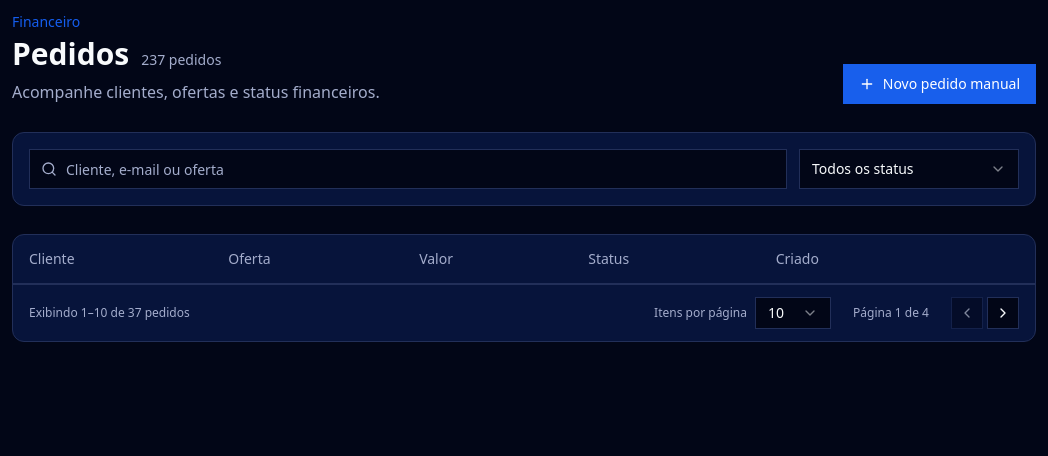
Test: BillingList de pedidos › exibe o total e pagina os pedidos com tamanho configurável
Later steps or results of the test are not shown.
Expected: the text "237 pedidos" is shown, [141,50,221,70]
Expected: the text "Exibindo 1–10 de 37 pedidos" is shown, [29,304,190,320]
Click the button named "Próxima página". click: (1003, 312)
box: [987,296,1019,328]
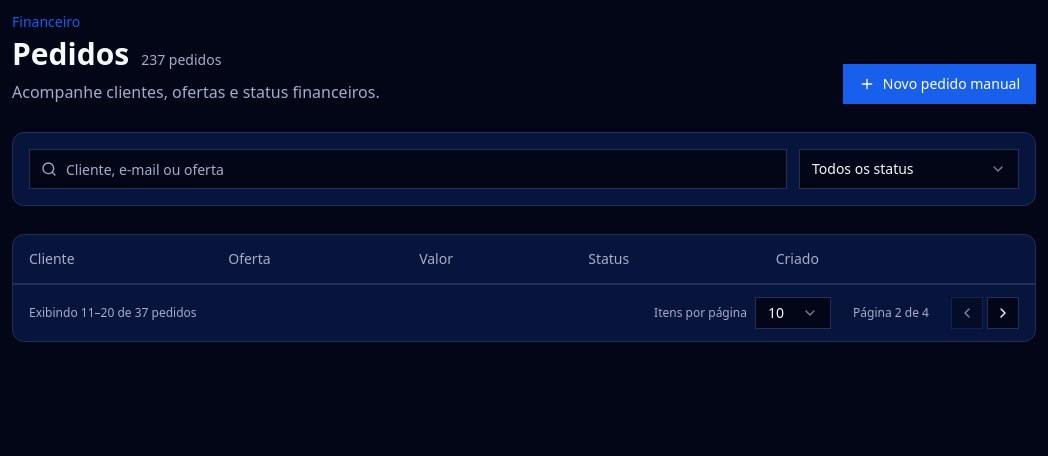
Click the dropdown named "Itens por página". click: (793, 312)
box: [755,296,831,328]
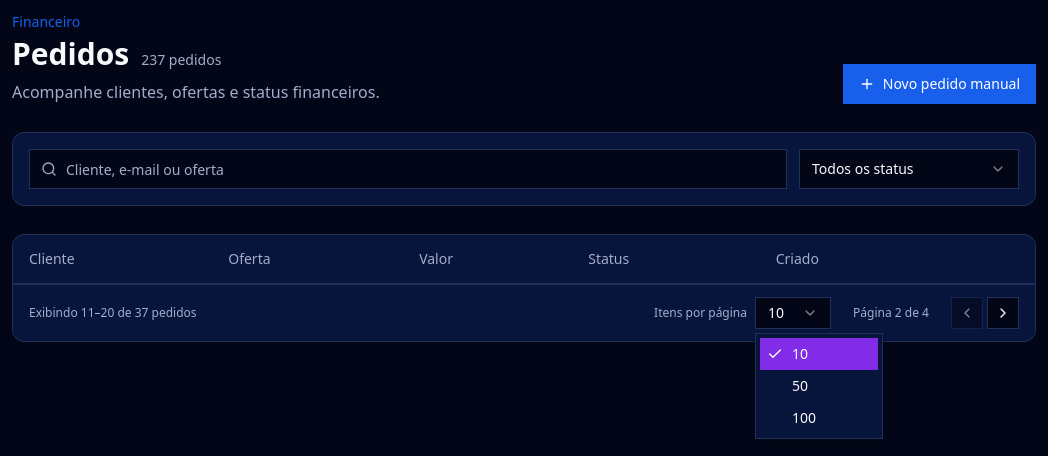
Result: the option "10" is shown at [760,338,878,370]
Result: the option "50" is shown at [792,376,808,395]
Result: the option "100" is shown at [792,408,816,427]
